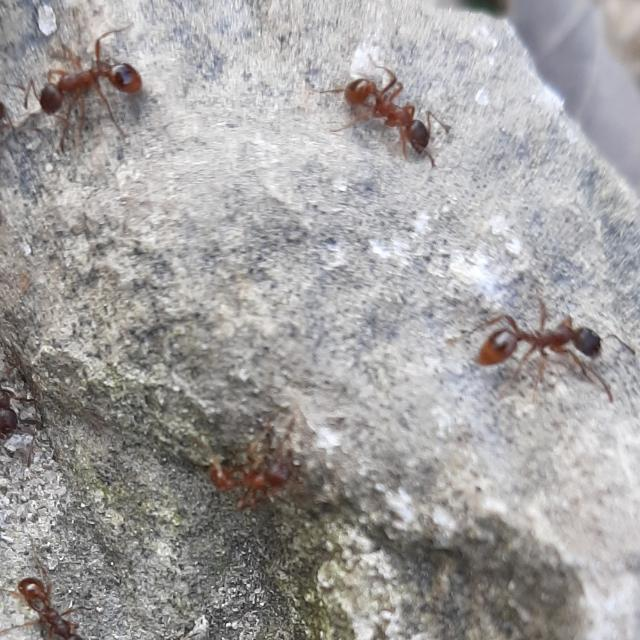Myrmica: (464, 304, 624, 404), (193, 396, 301, 530), (330, 62, 466, 162), (31, 38, 161, 124), (8, 565, 112, 639)
